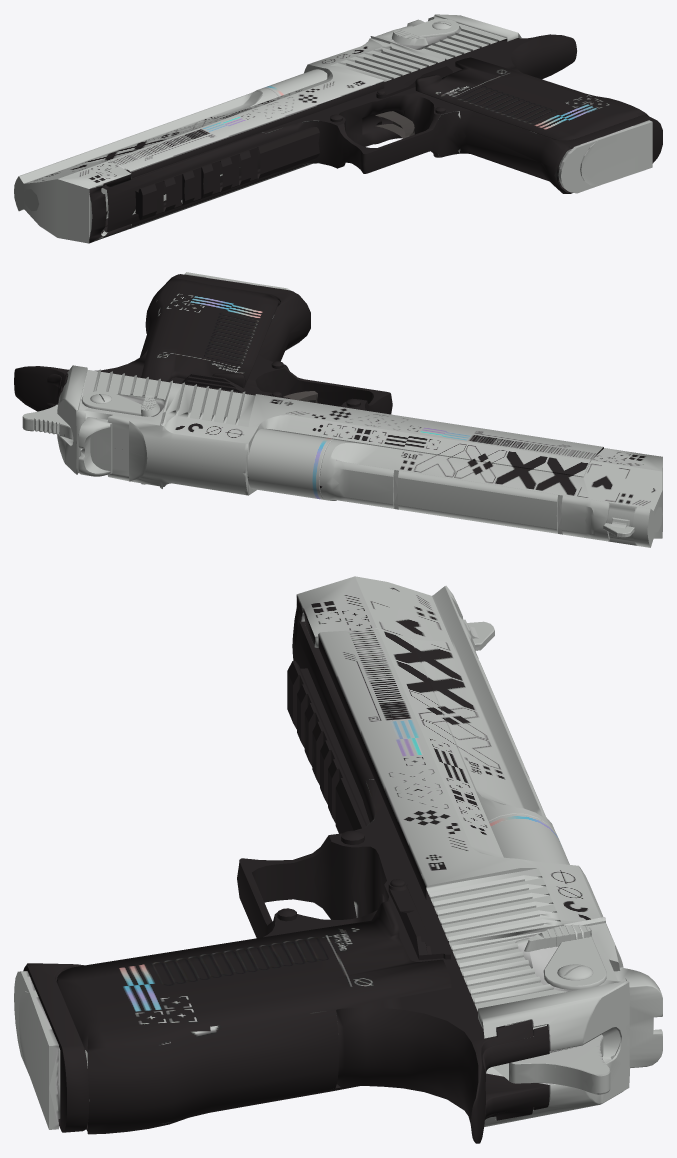
The model's file is deagle.glb.
3 renders of one model, top to bottom at view 1: azimuth 30°, elevation 25°; view 2: azimuth 150°, elevation 25°; view 3: azimuth 270°, elevation 25°, orthographic. The views are drawn at different scales.
Visible parts, largest first — view 1: desert_eagle; view 2: desert_eagle; view 3: desert_eagle.
Boxes of the visible parts, <box> form: desert_eagle: <box>14,14,662,243</box>; desert_eagle: <box>14,272,662,547</box>; desert_eagle: <box>14,576,662,1143</box>.
Size of the model in its own units: 1.15 by 0.1297 by 0.6238.
Materials: 1 (1 with a texture image).
